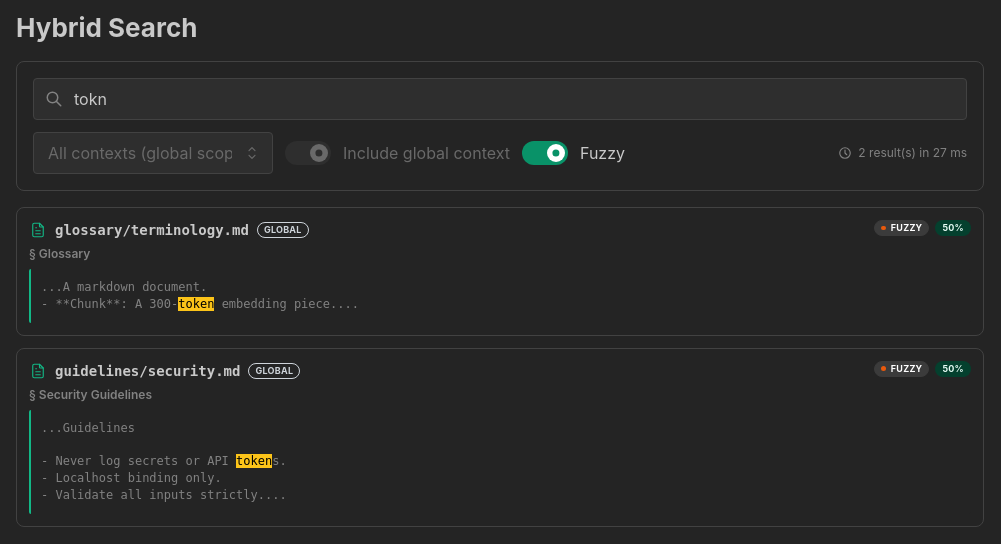
Test: Search Feature › switching fuzzy off removes fuzzy-only hits
Expected: the button "guidelines/security.md" is shown, [16,348,984,527]
Click the switch labelled "Fuzzy": (545, 153) [522,141,625,165]
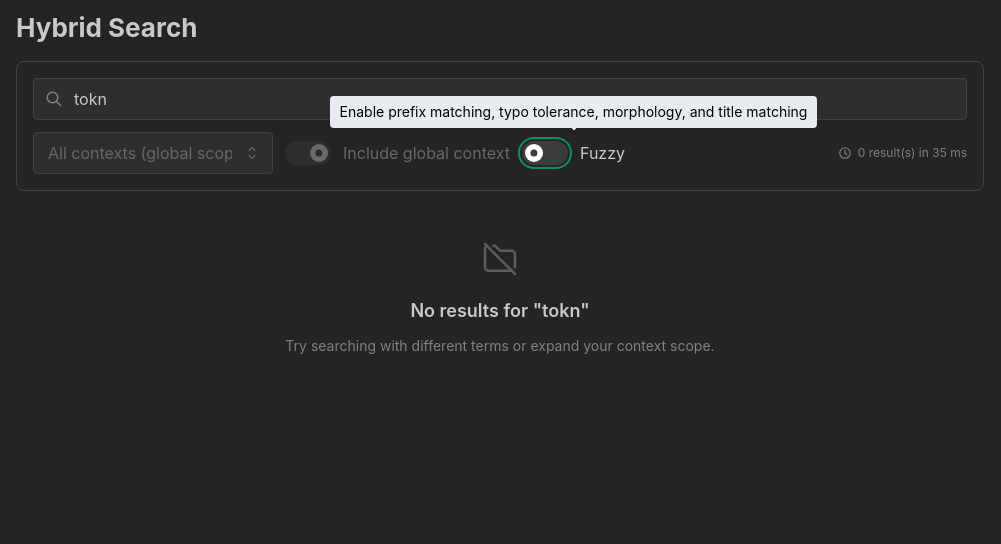
Expected: the heading "No results for \"tokn\"" is shown, [410,298,590,324]
